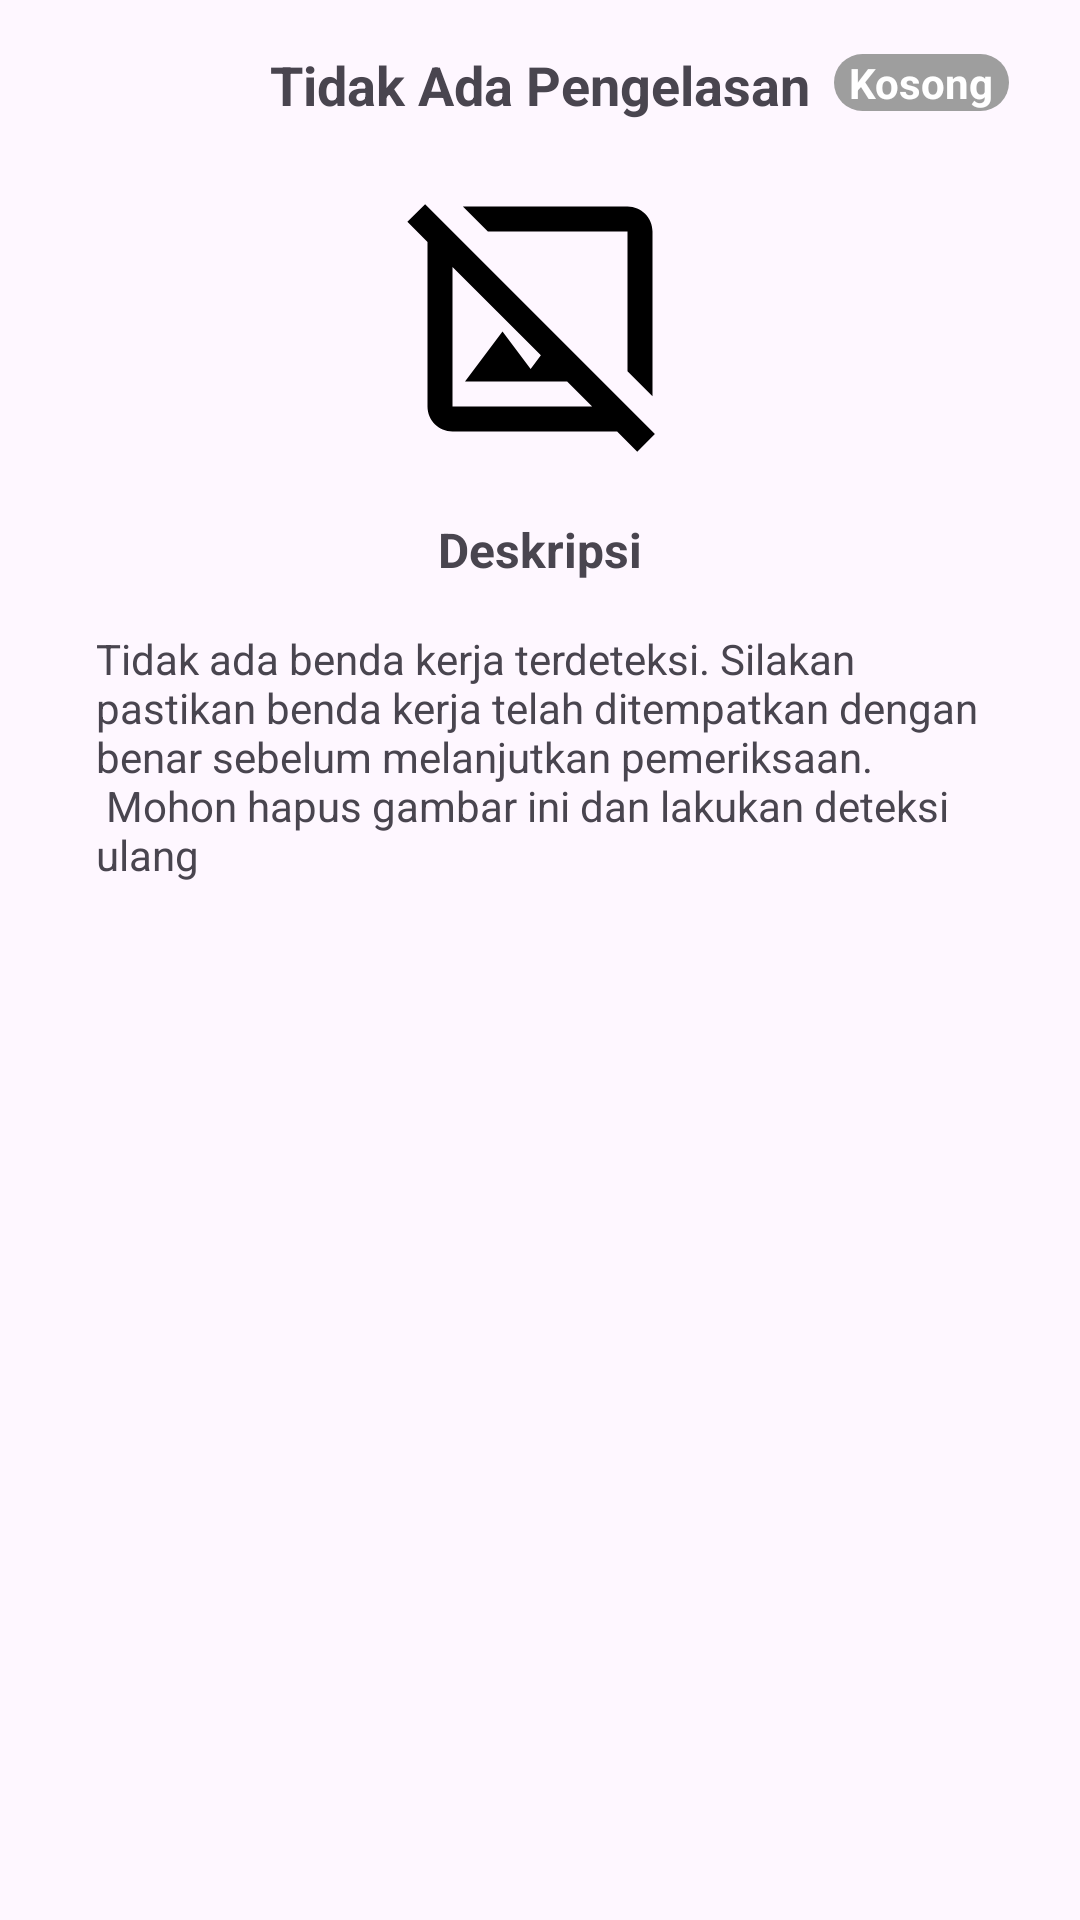

Screen size 1080×1920. Icon name, then its center in pixels as [x,y]:
broken: [531,328]
